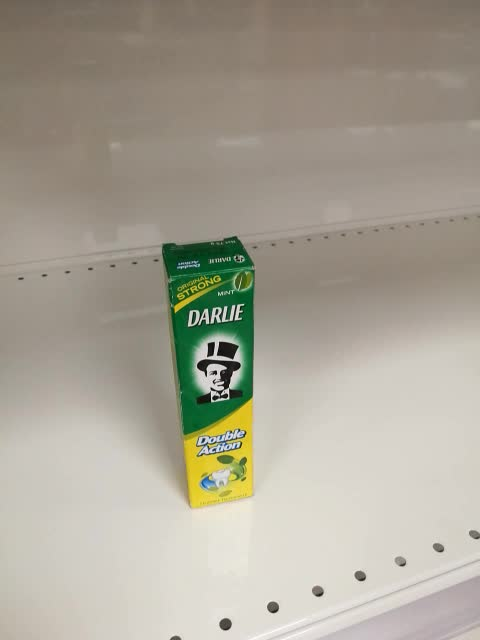toothpaste: (162, 235, 255, 513)
